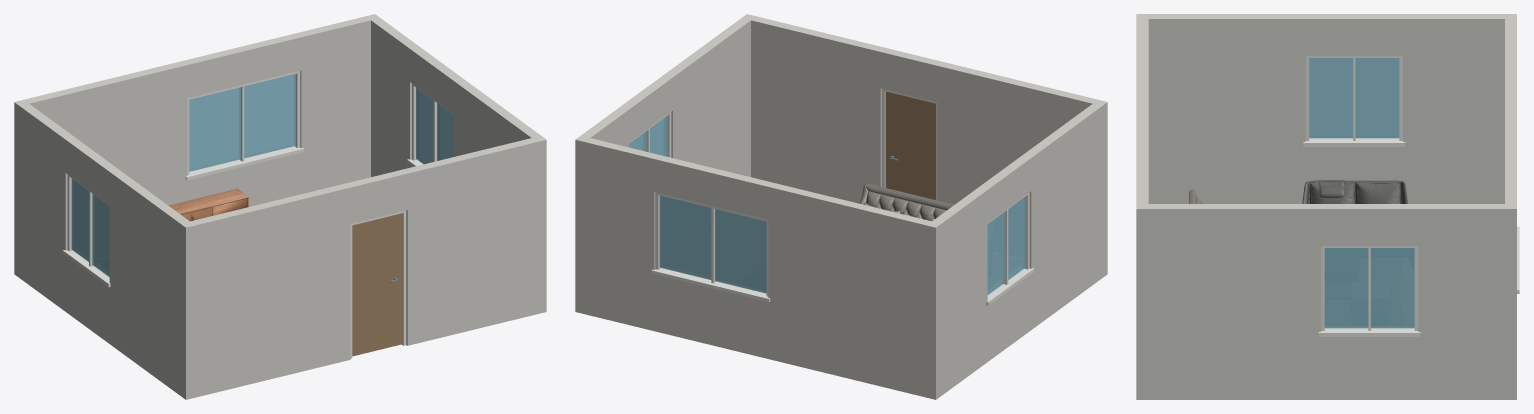
The model's file is layoutgpt.glb.
3 views of the same model, side by side, from view 1: azimuth 30°, elevation 25°; view 2: azimuth 150°, elevation 25°; view 3: azimuth 270°, elevation 25° (orthographic). The views are drawn at different scales.
Parts seen in each view (by area): view 1: wall|scenesmith_010__R00|0, wall|scenesmith_010__R00|1, wall|scenesmith_010__R00|2, wall|scenesmith_010__R00|3, wall|scenesmith_010__R00|1 Window 0 | glazing, wall|scenesmith_010__R00|0 Door 0 | wood leaf, wall|scenesmith_010__R00|2 Window 0 | glazing, wall|scenesmith_010__R00|1 Window 0 | jamb, wall|scenesmith_010__R00|3 Window 0 | glazing, raw_model.005, wall|scenesmith_010__R00|2 Window 0 | jamb, wall|scenesmith_010__R00|0 Door 0 | jamb (+1 smaller); view 2: wall|scenesmith_010__R00|1, wall|scenesmith_010__R00|0, wall|scenesmith_010__R00|2, wall|scenesmith_010__R00|3, wall|scenesmith_010__R00|1 Window 0 | glazing, wall|scenesmith_010__R00|0 Door 0 | wood leaf, wall|scenesmith_010__R00|2 Window 0 | glazing, wall|scenesmith_010__R00|1 Window 0 | jamb, raw_model, wall|scenesmith_010__R00|2 Window 0 | jamb, wall|scenesmith_010__R00|3 Window 0 | glazing, wall|scenesmith_010__R00|0 Door 0 | jamb; view 3: wall|scenesmith_010__R00|3, wall|scenesmith_010__R00|2, wall|scenesmith_010__R00|2 Window 0 | glazing, wall|scenesmith_010__R00|3 Window 0 | glazing, wall|scenesmith_010__R00|0, wall|scenesmith_010__R00|1, raw_model.001, wall|scenesmith_010__R00|3 Window 0 | jamb, wall|scenesmith_010__R00|2 Window 0 | jamb.
Boxes of the visible parts, x1,y1,x2,y2 form: wall|scenesmith_010__R00|0: (180, 136, 546, 399); wall|scenesmith_010__R00|1: (14, 14, 379, 277); wall|scenesmith_010__R00|2: (18, 100, 195, 399); wall|scenesmith_010__R00|3: (368, 14, 546, 313); wall|scenesmith_010__R00|1 Window 0 | glazing: (189, 74, 295, 171); wall|scenesmith_010__R00|0 Door 0 | wood leaf: (352, 213, 402, 356); wall|scenesmith_010__R00|2 Window 0 | glazing: (71, 178, 109, 276); wall|scenesmith_010__R00|1 Window 0 | jamb: (185, 71, 304, 180); wall|scenesmith_010__R00|3 Window 0 | glazing: (416, 88, 453, 164); raw_model.005: (168, 188, 248, 221); wall|scenesmith_010__R00|2 Window 0 | jamb: (62, 174, 110, 287); wall|scenesmith_010__R00|0 Door 0 | jamb: (350, 210, 406, 358); wall|scenesmith_010__R00|1: (584, 138, 941, 399); wall|scenesmith_010__R00|0: (742, 14, 1107, 277); wall|scenesmith_010__R00|2: (926, 104, 1102, 399); wall|scenesmith_010__R00|3: (575, 18, 750, 313); wall|scenesmith_010__R00|1 Window 0 | glazing: (659, 195, 766, 293); wall|scenesmith_010__R00|0 Door 0 | wood leaf: (885, 91, 935, 199); wall|scenesmith_010__R00|2 Window 0 | glazing: (987, 196, 1025, 294); wall|scenesmith_010__R00|1 Window 0 | jamb: (651, 192, 770, 301); raw_model: (859, 183, 954, 221); wall|scenesmith_010__R00|2 Window 0 | jamb: (986, 192, 1034, 305); wall|scenesmith_010__R00|3 Window 0 | glazing: (629, 116, 667, 156); wall|scenesmith_010__R00|0 Door 0 | jamb: (882, 89, 937, 200); wall|scenesmith_010__R00|3: (1148, 204, 1516, 399); wall|scenesmith_010__R00|2: (1148, 14, 1516, 203); wall|scenesmith_010__R00|2 Window 0 | glazing: (1309, 58, 1399, 138); wall|scenesmith_010__R00|3 Window 0 | glazing: (1324, 248, 1414, 328); wall|scenesmith_010__R00|0: (1136, 14, 1148, 399); wall|scenesmith_010__R00|1: (1505, 14, 1516, 399); raw_model.001: (1302, 180, 1407, 203); wall|scenesmith_010__R00|3 Window 0 | jamb: (1318, 245, 1420, 336); wall|scenesmith_010__R00|2 Window 0 | jamb: (1303, 56, 1405, 146).
Bounding box in the file's own units: 5.76 × 2.61 × 4.73.
Materials: 13 (6 with a texture image).
